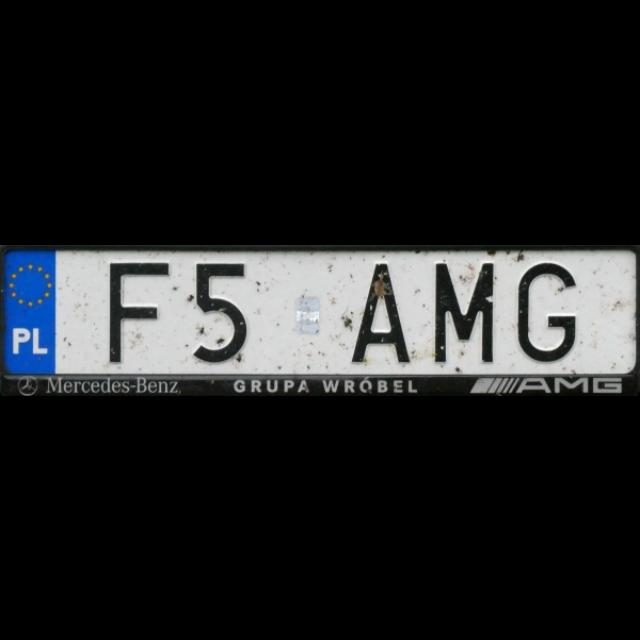pl_license_plate: (3, 249, 633, 373)
